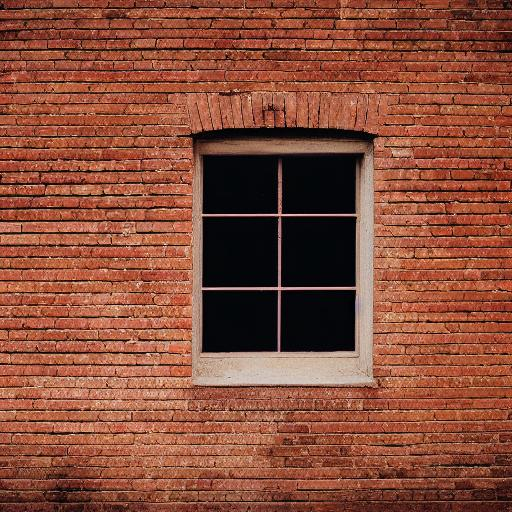Window: (186, 92, 379, 385)
